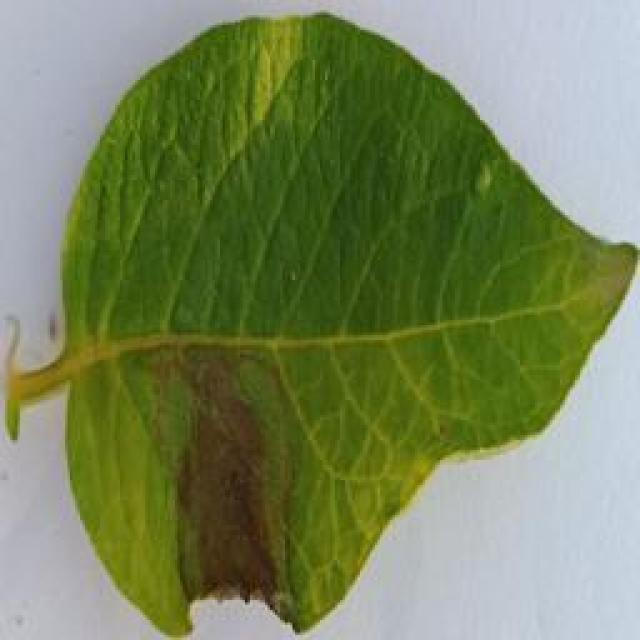Potato_Late_Blight: (11, 4, 632, 630)
